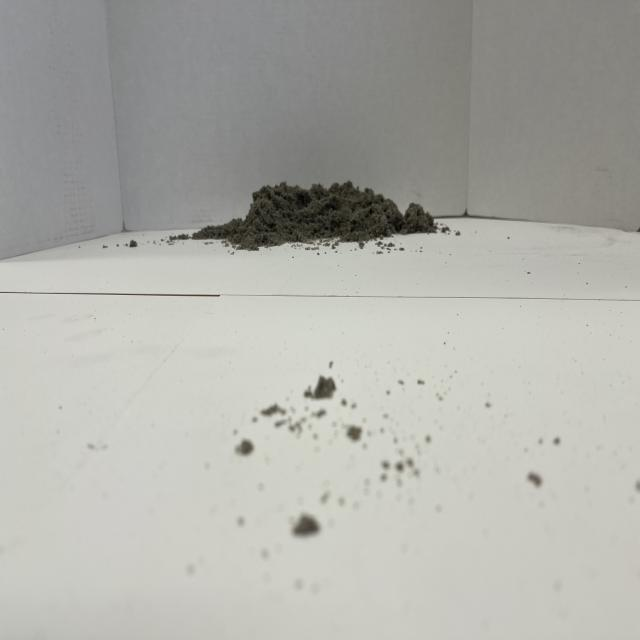sand: (209, 174, 427, 252)
